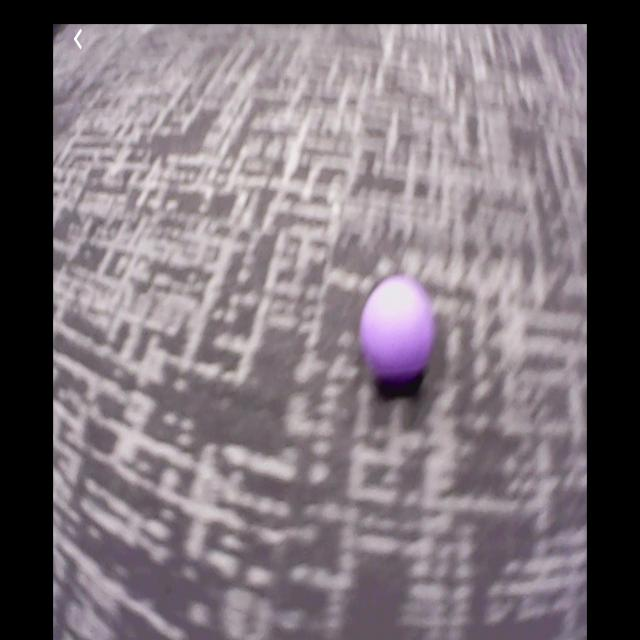ball: (360, 272, 430, 383)
